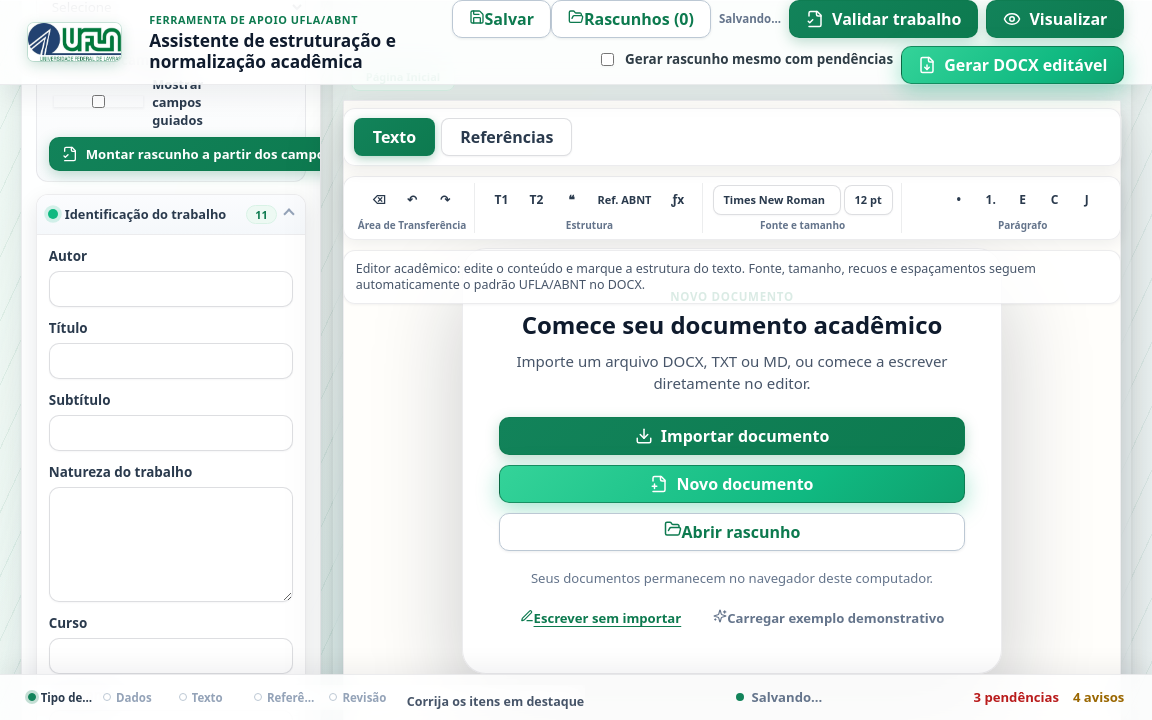
Test: TEC-02 — autosave com falha de storage › continua funcionando (sem exceção para a UI) quando o storage está indisponível
The image size is (1152, 720).
(page scrolled)
Type "Título de teste" into the field with id "title" at (171, 361), box [49,343,293,379]
Wait 900 ms
(page scrolled)
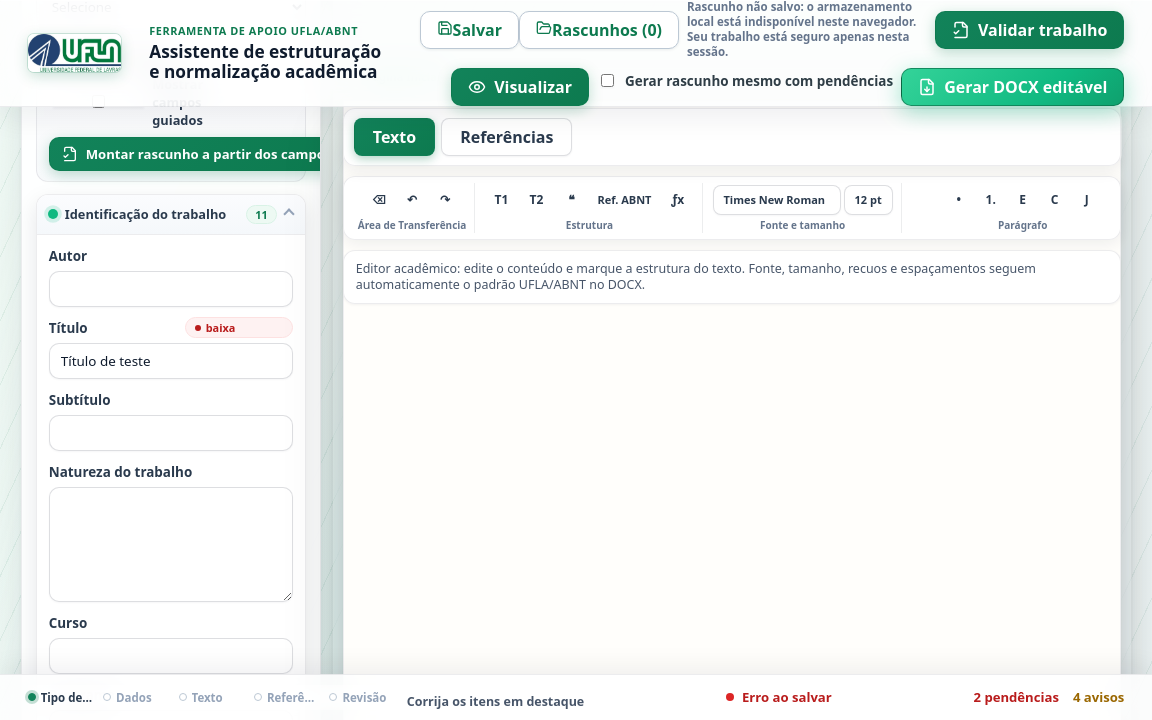
Expected: the text "armazenamento local está indisponível" is shown, [687,0,916,59]
